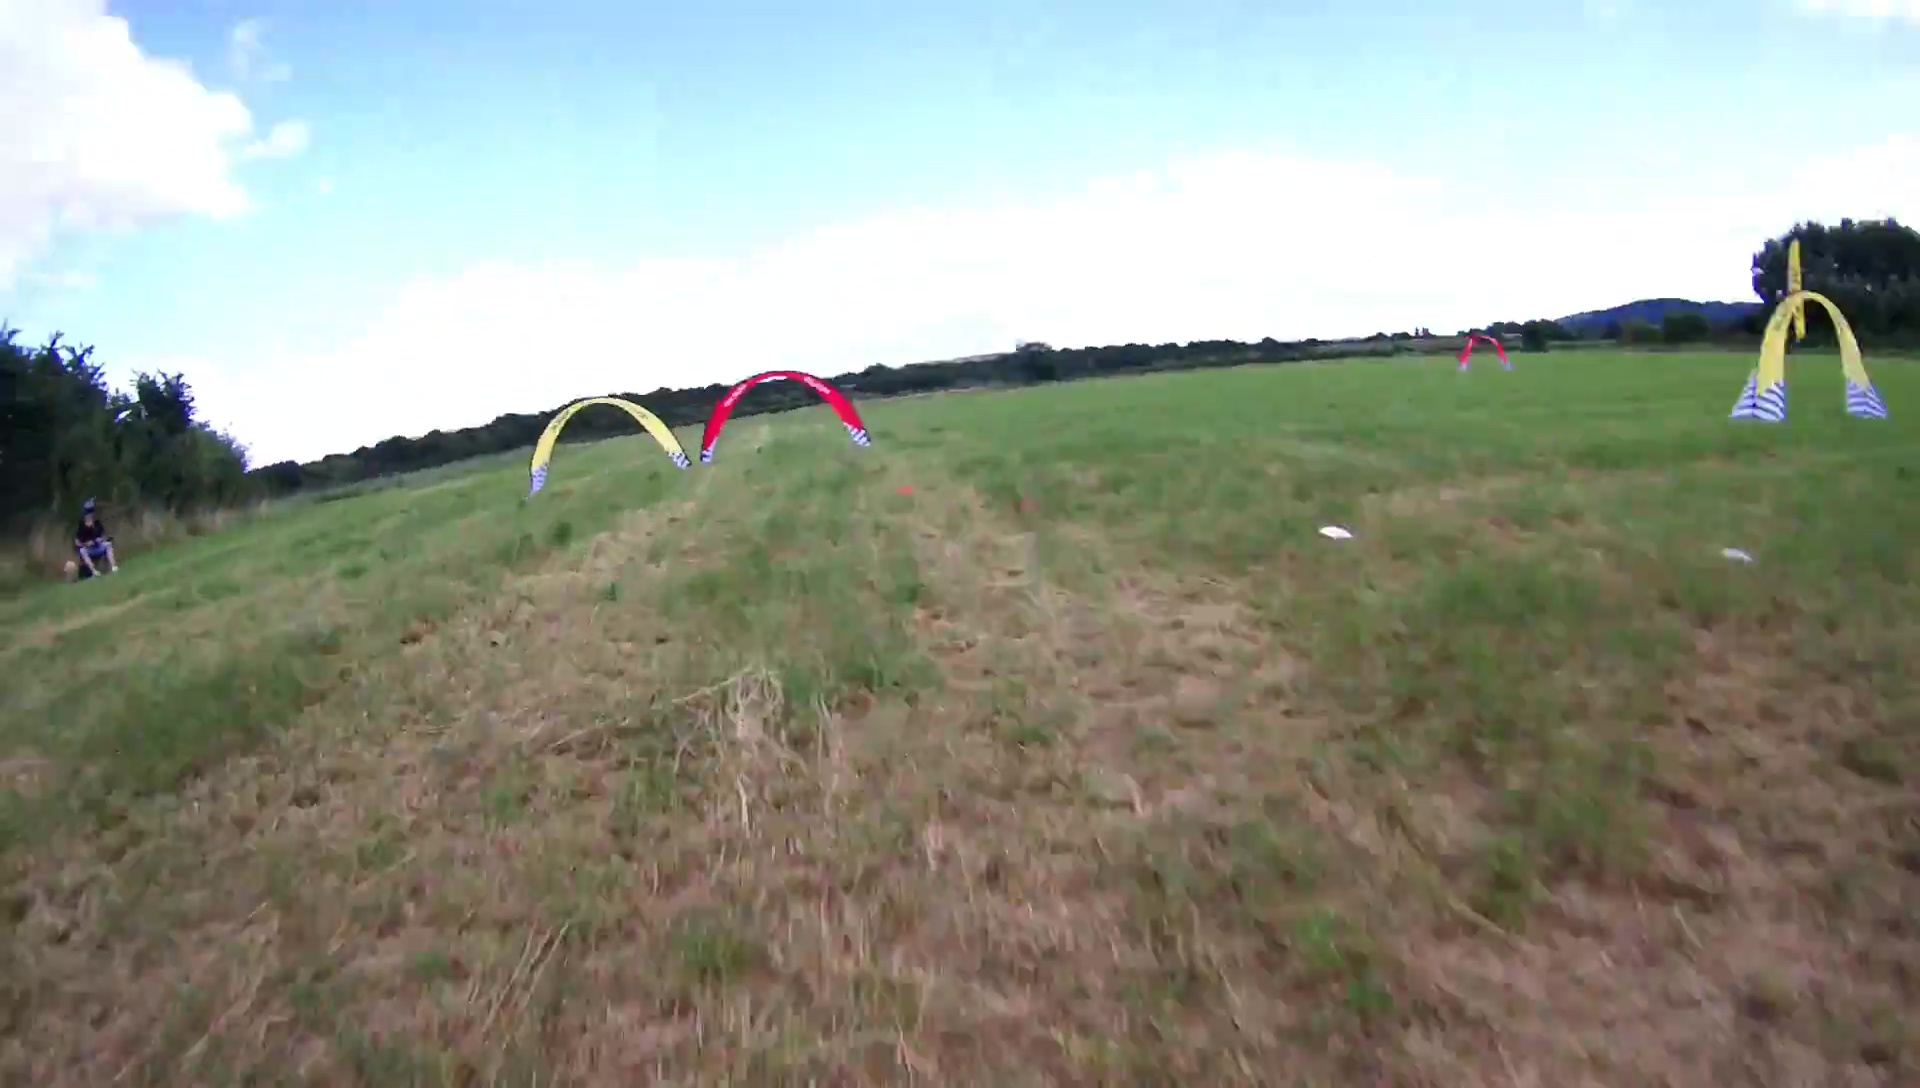gate: (1727, 287, 1890, 426), (525, 396, 694, 502), (698, 369, 874, 467), (1458, 334, 1513, 375)
